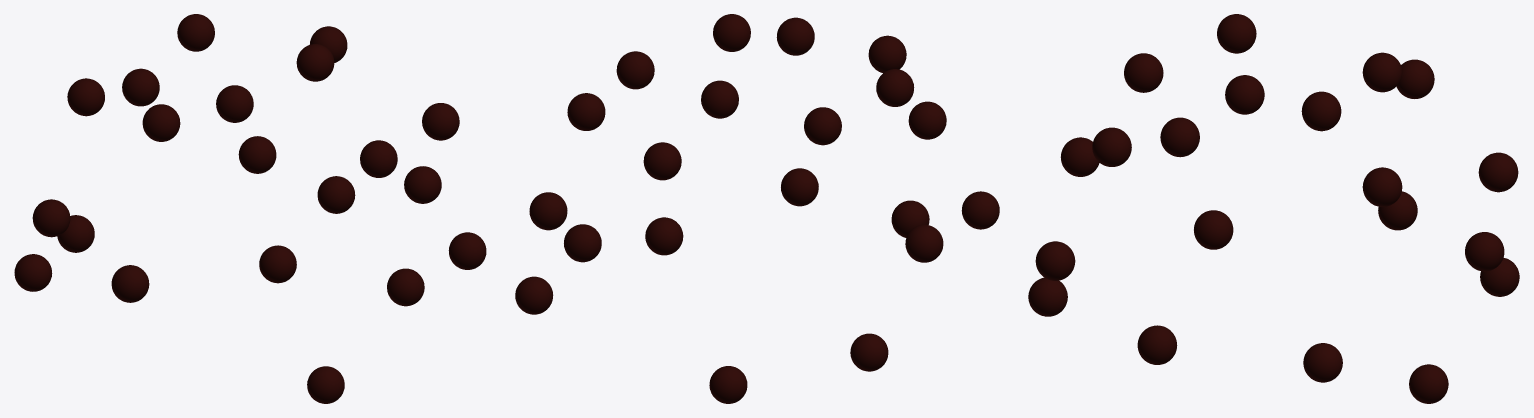
File: BolitasChocolateColocadas.fbx
The picture shows the model from 3 angles, left to right: view 1: azimuth 30°, elevation 25°; view 2: azimuth 150°, elevation 25°; view 3: azimuth 270°, elevation 25°; orthographic projection. The views are drawn at different scales.
Parts seen in each view (by area): view 1: Bolitas; view 2: Bolitas; view 3: Bolitas.
Boxes of the visible parts, x1,y1,x2,y2 form: Bolitas: (14, 14, 486, 403); Bolitas: (515, 14, 999, 403); Bolitas: (1028, 14, 1519, 403).
Size of the model in its own units: 299 by 189 by 300.
